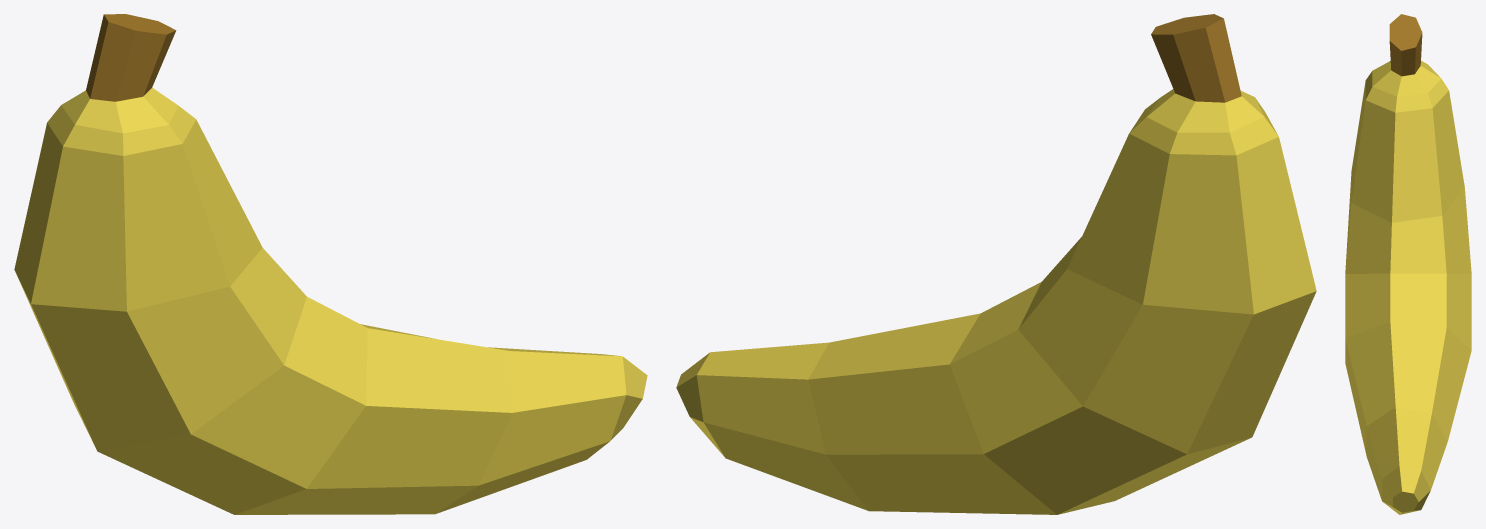
File: banana.fbx
3 views of the same model, side by side, from view 1: azimuth 30°, elevation 25°; view 2: azimuth 150°, elevation 25°; view 3: azimuth 270°, elevation 25° (orthographic). The views are drawn at different scales.
Parts seen in each view (by area): view 1: Cylinder; view 2: Cylinder; view 3: Cylinder.
Boxes of the visible parts, x1,y1,x2,y2 form: Cylinder: (14, 14, 647, 514); Cylinder: (676, 14, 1316, 514); Cylinder: (1345, 14, 1471, 514).
Bounding box in the file's own units: 241 × 210 × 66.32.
